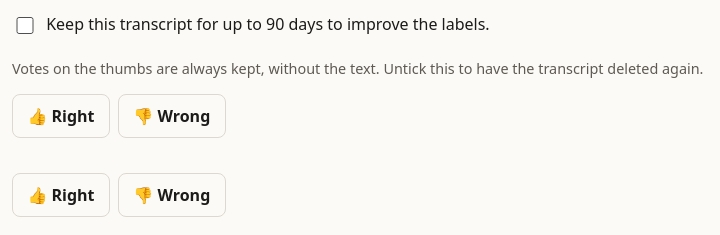
Test case: Feedback › says why a vote did not go through, and does not mark it
Click the 1st button "👍 Right".
click(61, 116)  # box [12,94,110,138]
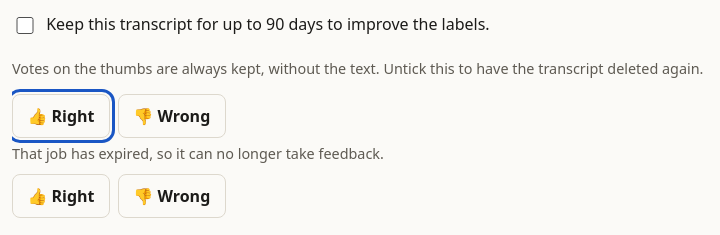
Expected: the text "That job has expired, so it can no longer take feedback." is shown, [12,144,384,163]
